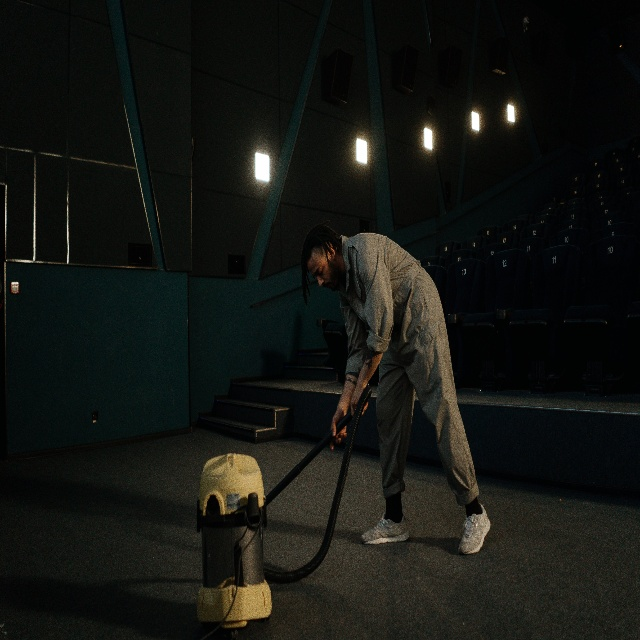Sin_guantes: (328, 409, 348, 450), (349, 385, 368, 418)
